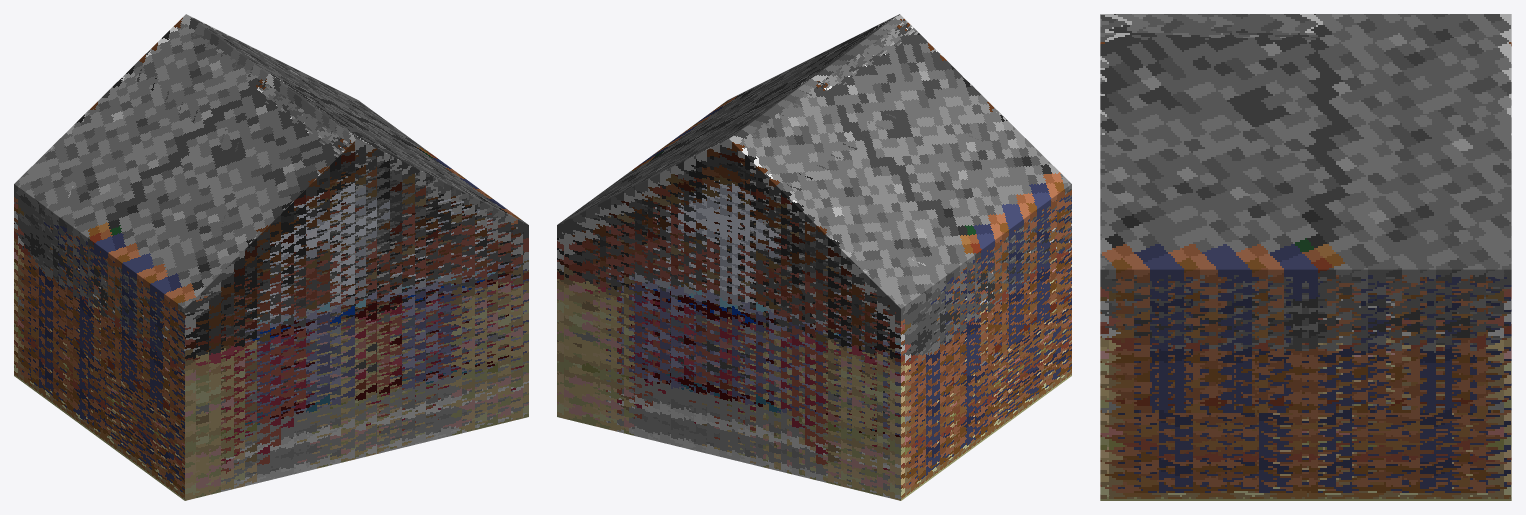
File: dum_3c_kostel.glb
The picture shows the model from 3 angles, left to right: view 1: azimuth 30°, elevation 25°; view 2: azimuth 150°, elevation 25°; view 3: azimuth 270°, elevation 25°; orthographic projection. The views are drawn at different scales.
Bounding box in the file's own units: 13.18 × 11.72 × 11.33.
Materials: 1 (1 with a texture image).
